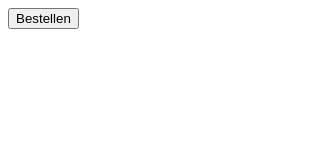
Scenario: shows the error and allows a new attempt
The image size is (320, 160).
Click the button "Bestellen".
click(43, 18)  # box [8,8,79,29]
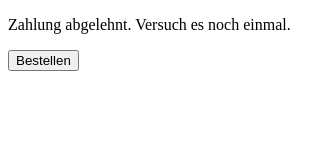
Expected: the button "Bestellen" is enabled, [8,50,79,71]
Now the message reads "Zahlung abgelehnt. Versuch es noch einmal.", box [8,16,291,33]
